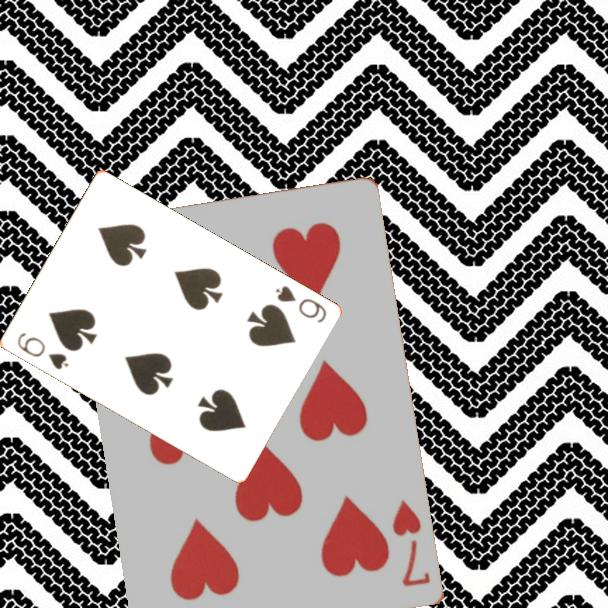h07: (389, 496, 434, 590)
s06: (13, 329, 71, 373), (271, 282, 329, 326)
